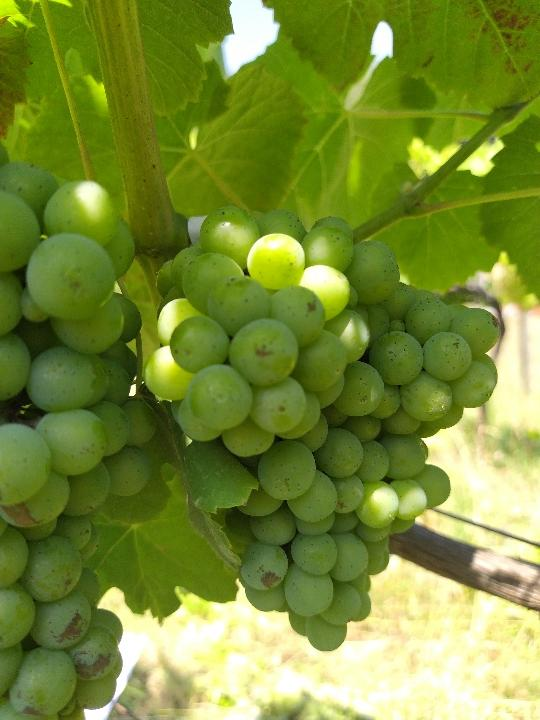grape: (144, 206, 497, 652)
